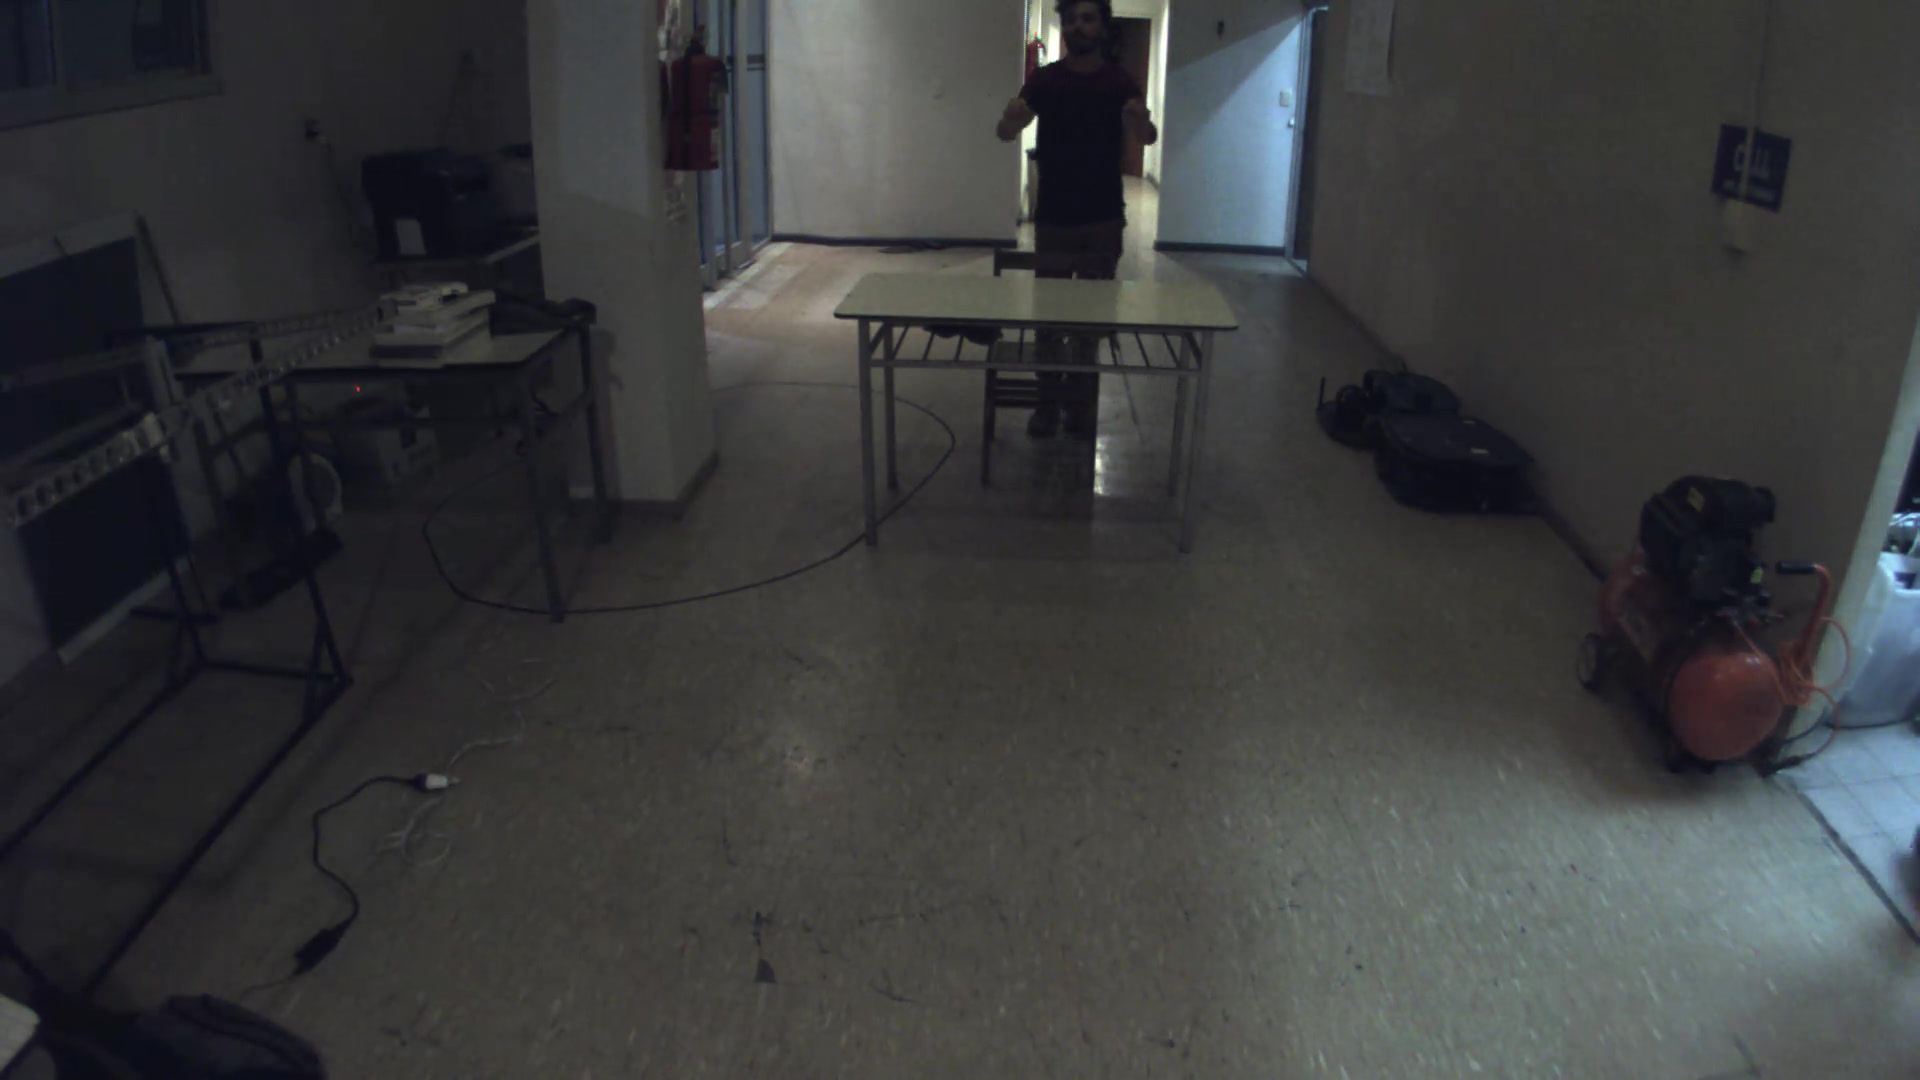hand: (993, 88, 1046, 140), (1112, 92, 1162, 138)
